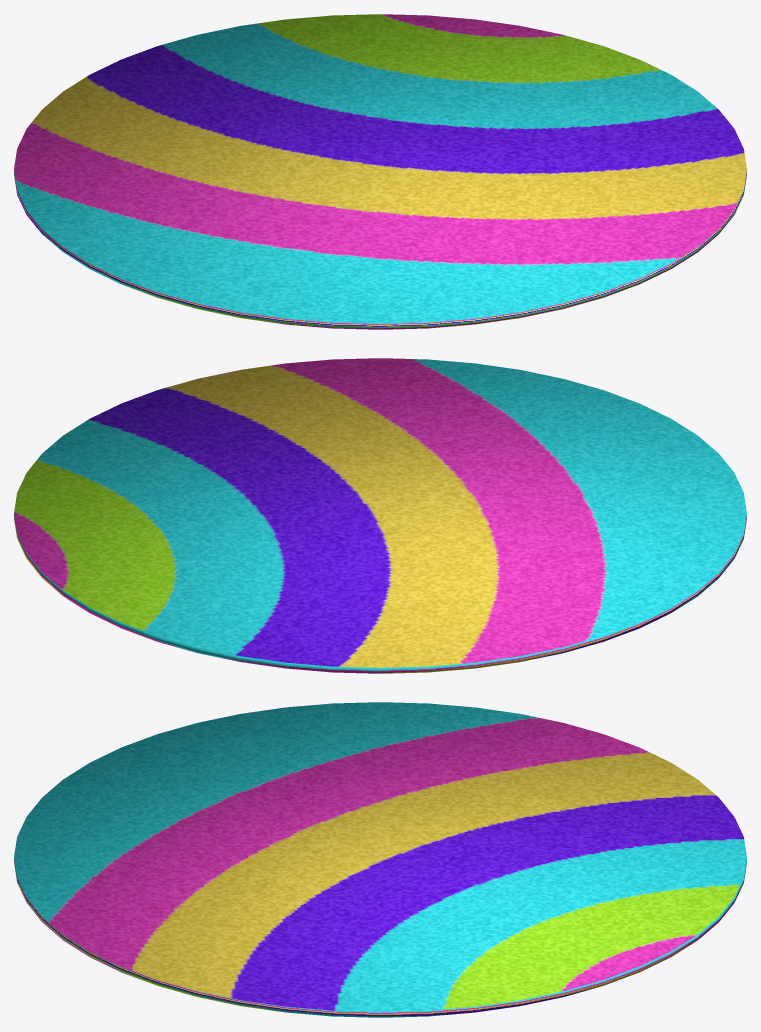
File: Furn_Rug.fbx
3 views of the same model, one above another, from view 1: azimuth 30°, elevation 25°; view 2: azimuth 150°, elevation 25°; view 3: azimuth 270°, elevation 25° (orthographic).
Visible parts, largest first — view 1: Furn_Rug; view 2: Furn_Rug; view 3: Furn_Rug.
Boxes of the visible parts, bbox=[...] form: Furn_Rug: bbox=[14, 14, 746, 329]; Furn_Rug: bbox=[14, 358, 746, 673]; Furn_Rug: bbox=[14, 702, 746, 1017].
Bounding box in the file's own units: 1.8 × 0.016 × 1.8.
1 material, 1 textured.
